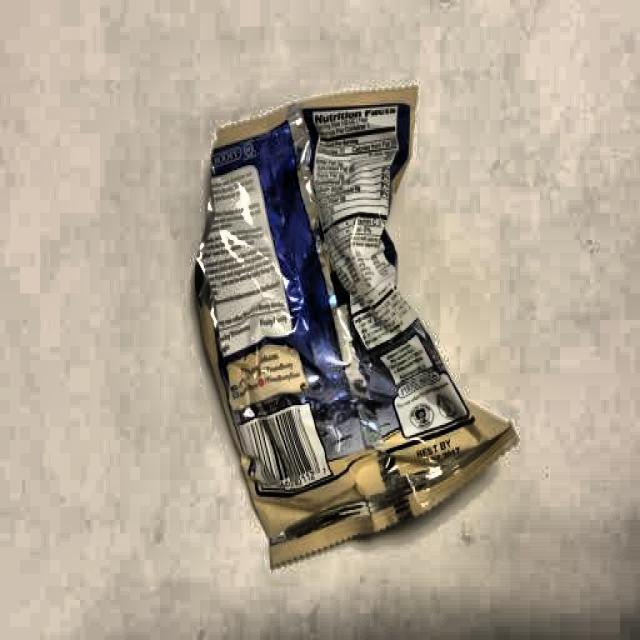trash: (198, 80, 505, 553)
